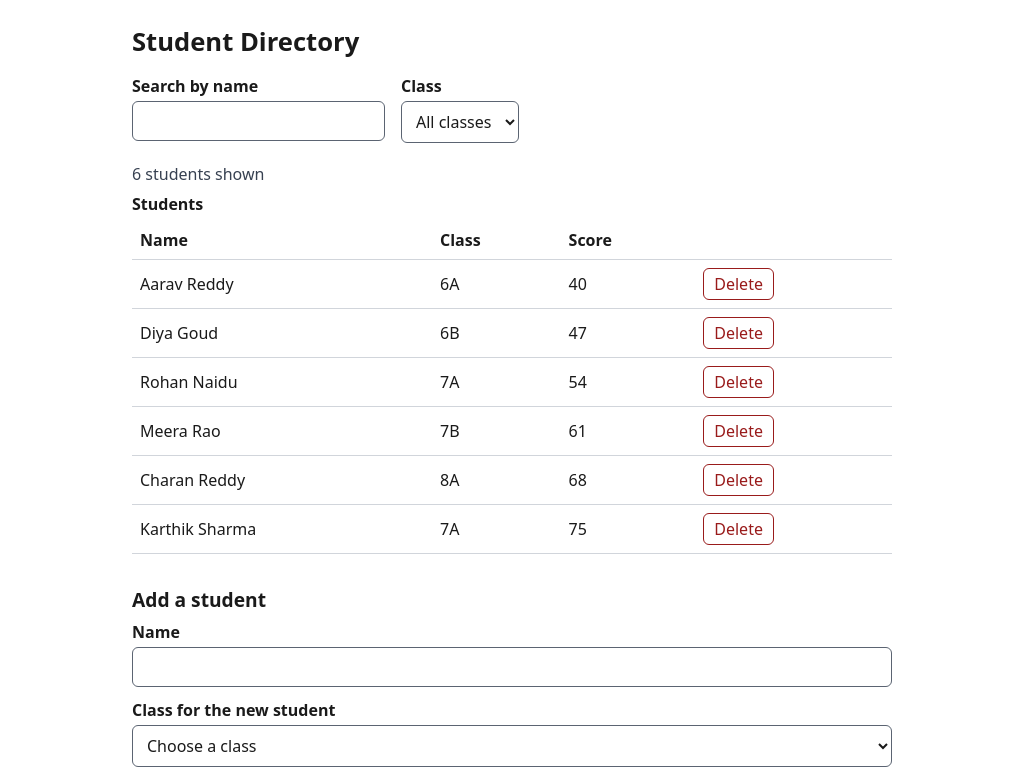
Test case: adding a student › a server validation error is shown in plain words
Expected: the table is shown, top-left (132, 193), bottom-right (892, 554)
In the field labelled "Name": (512, 667) top-left (132, 647), bottom-right (892, 687), type "Zara Khan"
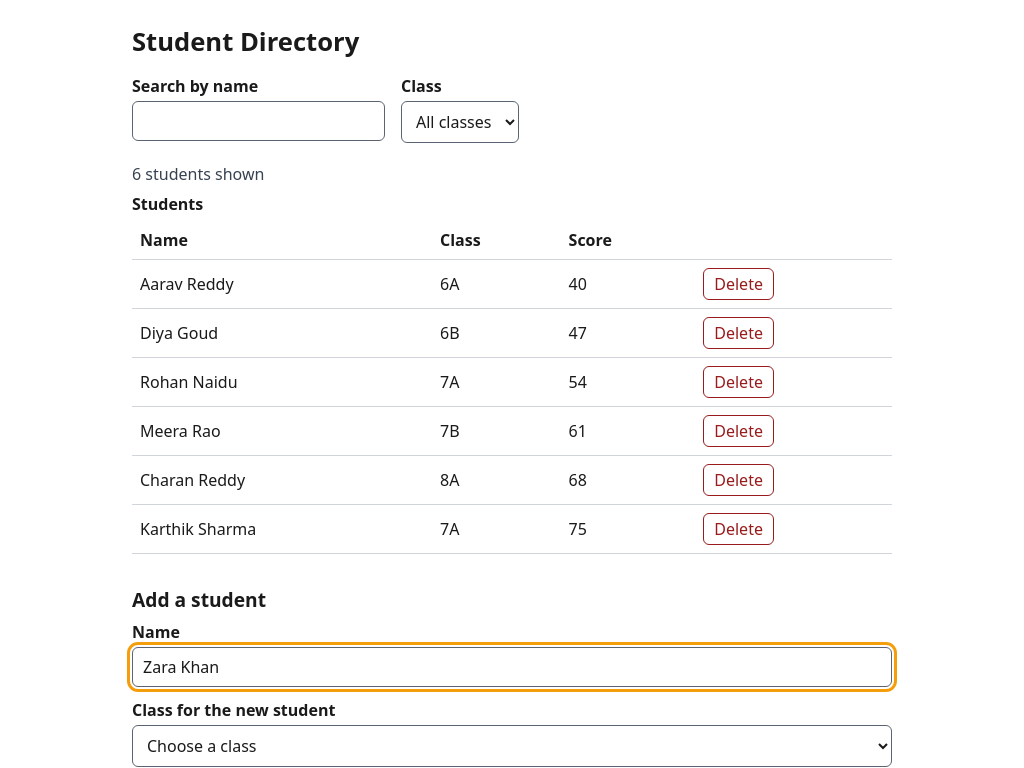
Select "8A" in the dropdown labelled "Class for the new student": (512, 746) top-left (132, 725), bottom-right (892, 767)
(page scrolled)
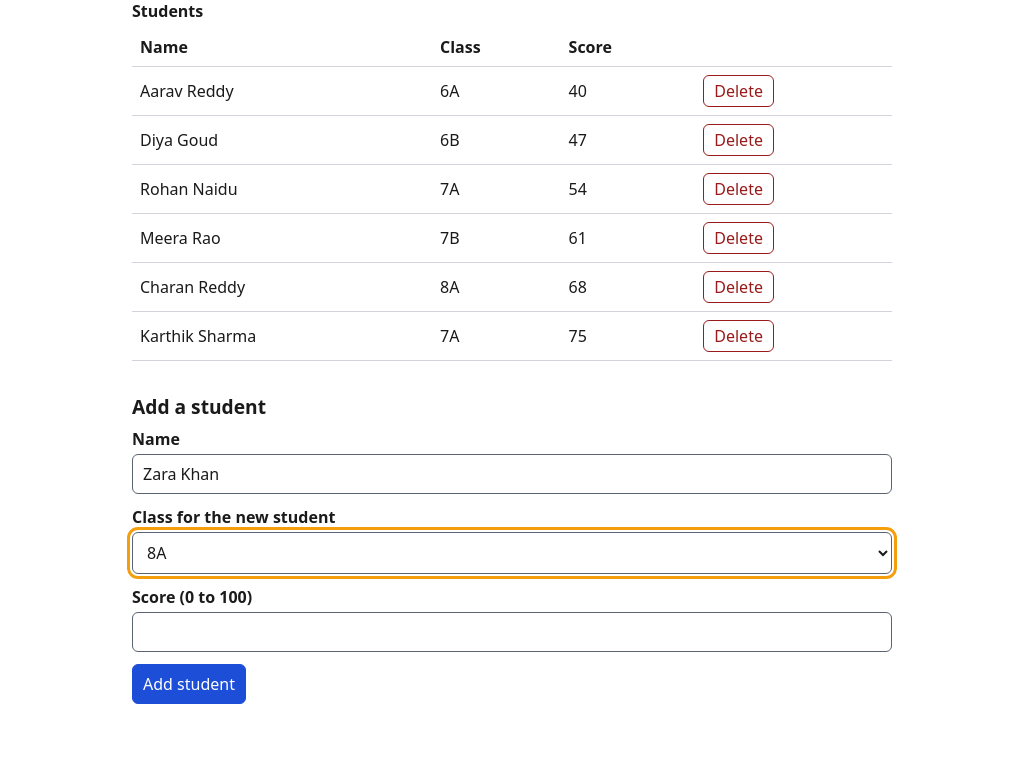
In the field labelled "Score (0 to 100)": (512, 632) top-left (132, 612), bottom-right (892, 652), type "5"
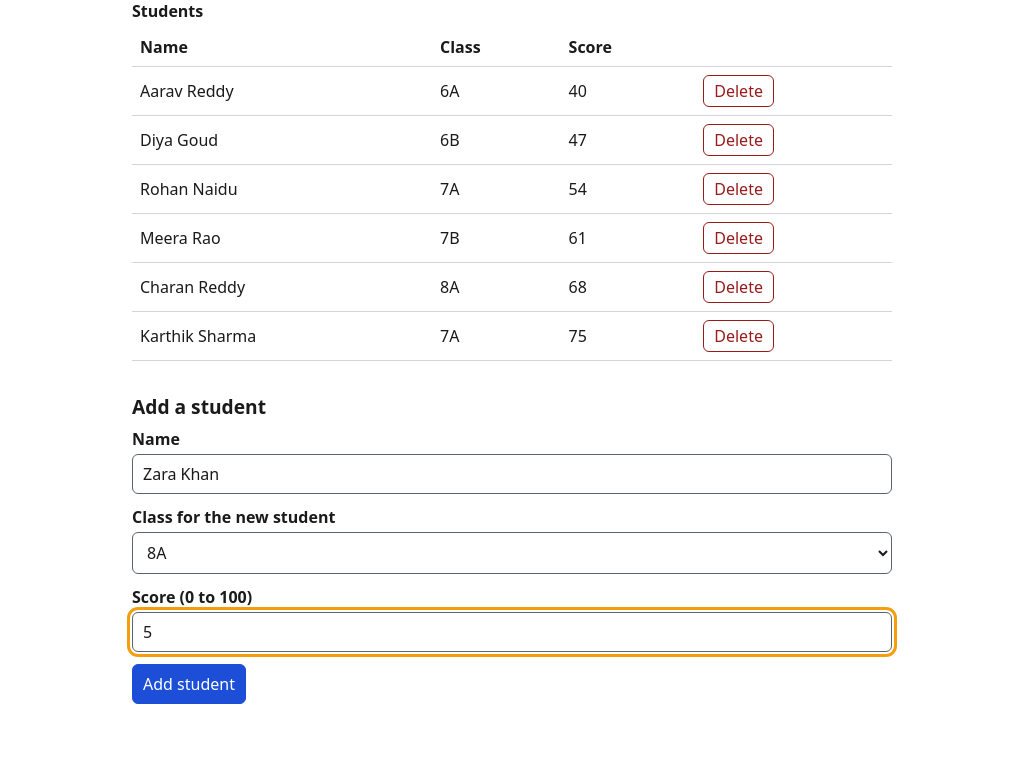
Click the button "Add student": (189, 684) top-left (132, 664), bottom-right (246, 704)
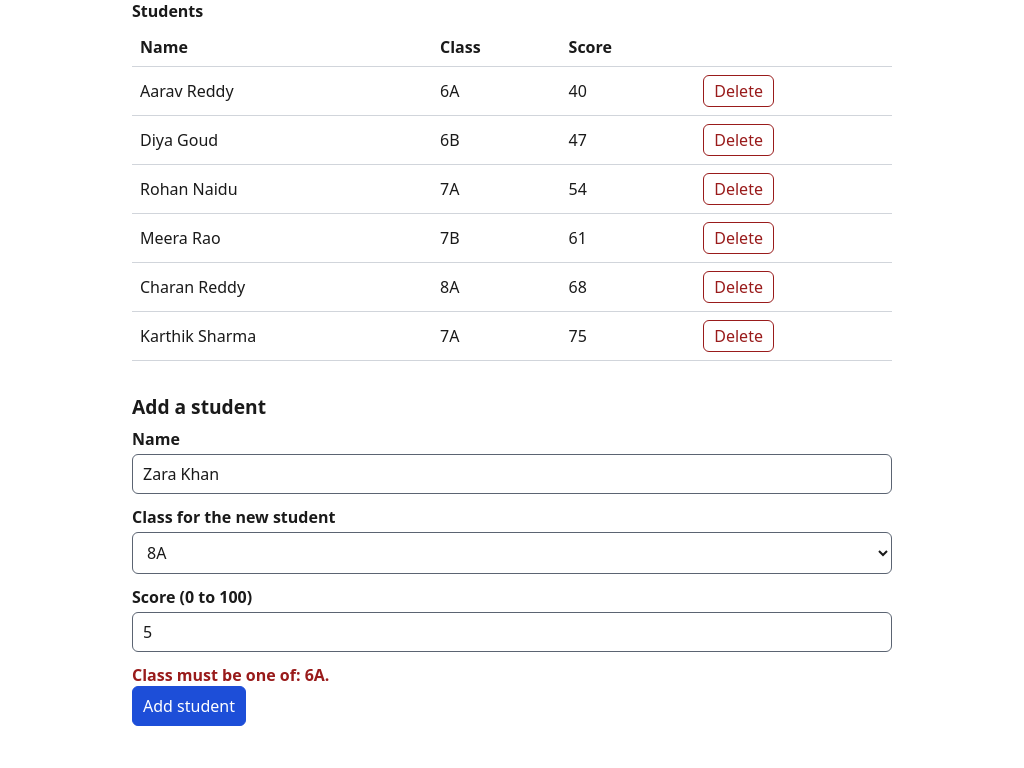
Now the message reads "Class must be one of: 6A.", box top-left (132, 664), bottom-right (329, 686)
